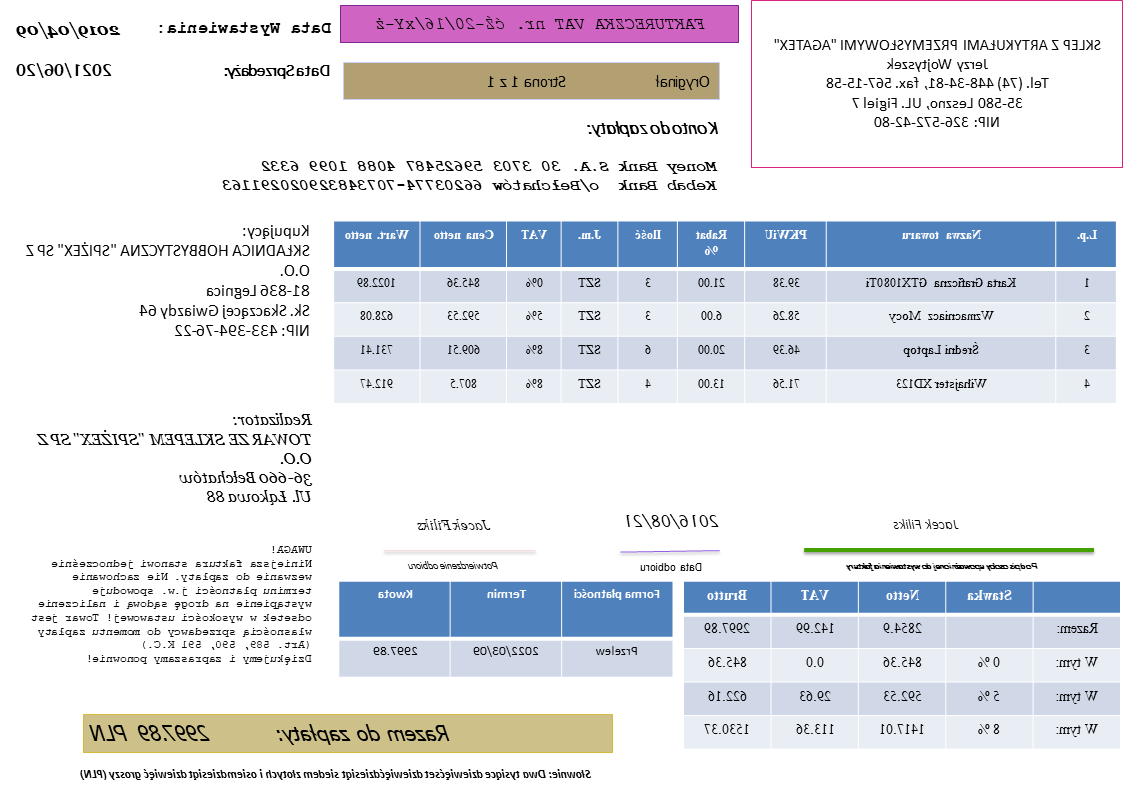Table: (331, 218, 1118, 405), (682, 579, 1122, 751), (337, 578, 675, 678)
TextBox: (20, 219, 314, 343), (28, 541, 316, 667), (771, 33, 1106, 132), (33, 409, 316, 508), (220, 156, 721, 195), (76, 764, 595, 785), (87, 719, 454, 747), (372, 14, 708, 33), (484, 70, 713, 94), (844, 557, 1041, 576), (157, 17, 335, 38), (584, 115, 723, 141), (222, 59, 335, 83), (623, 509, 724, 534), (12, 21, 124, 42), (16, 59, 114, 82), (414, 513, 495, 535), (404, 557, 503, 574), (889, 514, 962, 534), (638, 559, 705, 574)
